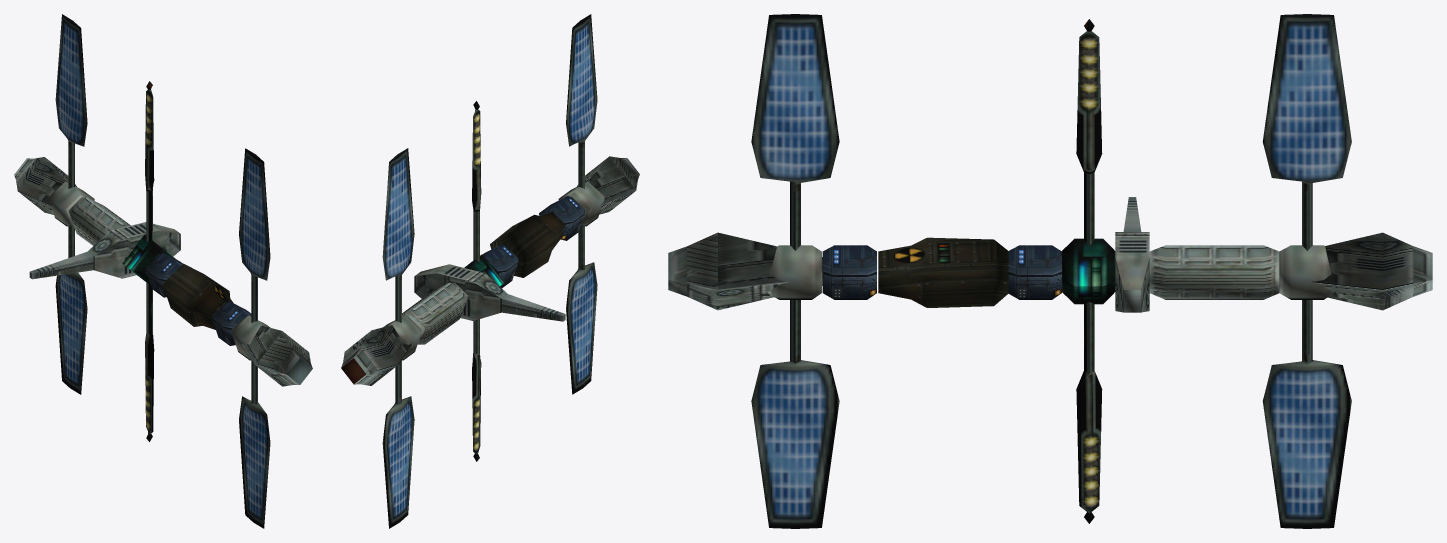
Rendered from utl01_static.obj.
3 renders of one model, left to right at view 1: azimuth 30°, elevation 25°; view 2: azimuth 150°, elevation 25°; view 3: azimuth 270°, elevation 25°, orthographic. The views are drawn at different scales.
Parts seen in each view (by area): view 1: frm-lslrpan1, frm-solar_panel1, frm-rfuselg3, frm-pwrpak, frm-beacon2, frm-blfuselg, frm-shield, frm-bfuselg, frm-beacon1, frm-rfuselg2, frm-lfuselg3, frm-lfuselg4 (+2 smaller); view 2: frm-solar_panel1, frm-lslrpan1, frm-rfuselg3, frm-pwrpak, frm-beacon2, frm-shield, frm-bfuselg, frm-blfuselg, frm-lfuselg3, frm-lfuselg2, frm-lfuselg4, frm-rfuselg1 (+2 smaller); view 3: frm-solar_panel1, frm-lslrpan1, frm-beacon2, frm-pwrpak, frm-shield, frm-blfuselg, frm-bfuselg, frm-rfuselg3, frm-beacon1, frm-lfuselg3, frm-lfuselg4, frm-rfuselg2 (+4 smaller).
Boxes of the visible parts, x1=… form: frm-lslrpan1: x1=239, y1=148, x2=270, y2=528; frm-solar_panel1: x1=55, y1=14, x2=87, y2=394; frm-rfuselg3: x1=29, y1=222, x2=180, y2=279; frm-pwrpak: x1=163, y1=263, x2=233, y2=329; frm-beacon2: x1=145, y1=81, x2=154, y2=441; frm-blfuselg: x1=242, y1=325, x2=310, y2=370; frm-shield: x1=68, y1=197, x2=130, y2=245; frm-bfuselg: x1=16, y1=157, x2=76, y2=206; frm-beacon1: x1=122, y1=235, x2=176, y2=285; frm-rfuselg2: x1=48, y1=181, x2=94, y2=226; frm-lfuselg3: x1=212, y1=301, x2=251, y2=345; frm-lfuselg4: x1=146, y1=252, x2=182, y2=297; frm-solar_panel1: x1=382, y1=148, x2=414, y2=528; frm-lslrpan1: x1=566, y1=14, x2=597, y2=394; frm-rfuselg3: x1=414, y1=264, x2=565, y2=321; frm-pwrpak: x1=490, y1=212, x2=564, y2=277; frm-beacon2: x1=472, y1=101, x2=481, y2=461; frm-shield: x1=402, y1=282, x2=467, y2=344; frm-bfuselg: x1=343, y1=325, x2=411, y2=370; frm-blfuselg: x1=576, y1=156, x2=637, y2=205; frm-lfuselg3: x1=539, y1=196, x2=584, y2=240; frm-lfuselg2: x1=558, y1=181, x2=604, y2=226; frm-lfuselg4: x1=482, y1=244, x2=518, y2=287; frm-rfuselg1: x1=341, y1=348, x2=377, y2=384; frm-solar_panel1: x1=1262, y1=14, x2=1351, y2=528; frm-lslrpan1: x1=751, y1=14, x2=839, y2=528; frm-beacon2: x1=1076, y1=19, x2=1102, y2=523; frm-pwrpak: x1=878, y1=237, x2=1008, y2=307; frm-shield: x1=1149, y1=245, x2=1279, y2=299; frm-blfuselg: x1=687, y1=232, x2=822, y2=289; frm-bfuselg: x1=1312, y1=232, x2=1413, y2=289; frm-rfuselg3: x1=1115, y1=197, x2=1149, y2=312; frm-beacon1: x1=1061, y1=238, x2=1115, y2=304; frm-lfuselg3: x1=822, y1=245, x2=876, y2=299; frm-lfuselg4: x1=1008, y1=245, x2=1061, y2=299; frm-rfuselg2: x1=1279, y1=245, x2=1333, y2=299.
Bounding box in the file's own units: 3.19 × 7.61 × 10.28.
